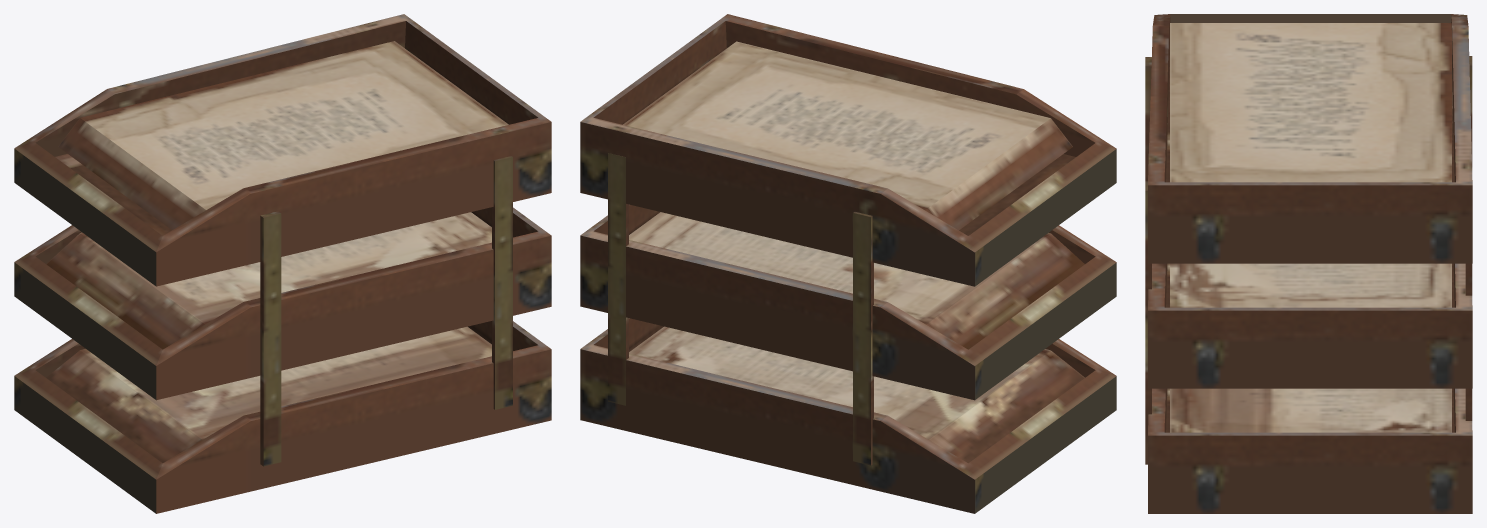
The model's file is LetterTray.fbx.
3 views of the same model, side by side, from view 1: azimuth 30°, elevation 25°; view 2: azimuth 150°, elevation 25°; view 3: azimuth 270°, elevation 25° (orthographic). The views are drawn at different scales.
Visible parts, largest first — view 1: LetterTray_Low; view 2: LetterTray_Low; view 3: LetterTray_Low.
Part boxes in pixels (bbox=[...]): LetterTray_Low: bbox=[14, 14, 551, 513]; LetterTray_Low: bbox=[580, 14, 1116, 513]; LetterTray_Low: bbox=[1145, 14, 1472, 513].
Size of the model in its own units: 0.4967 by 0.3609 by 0.3257.
